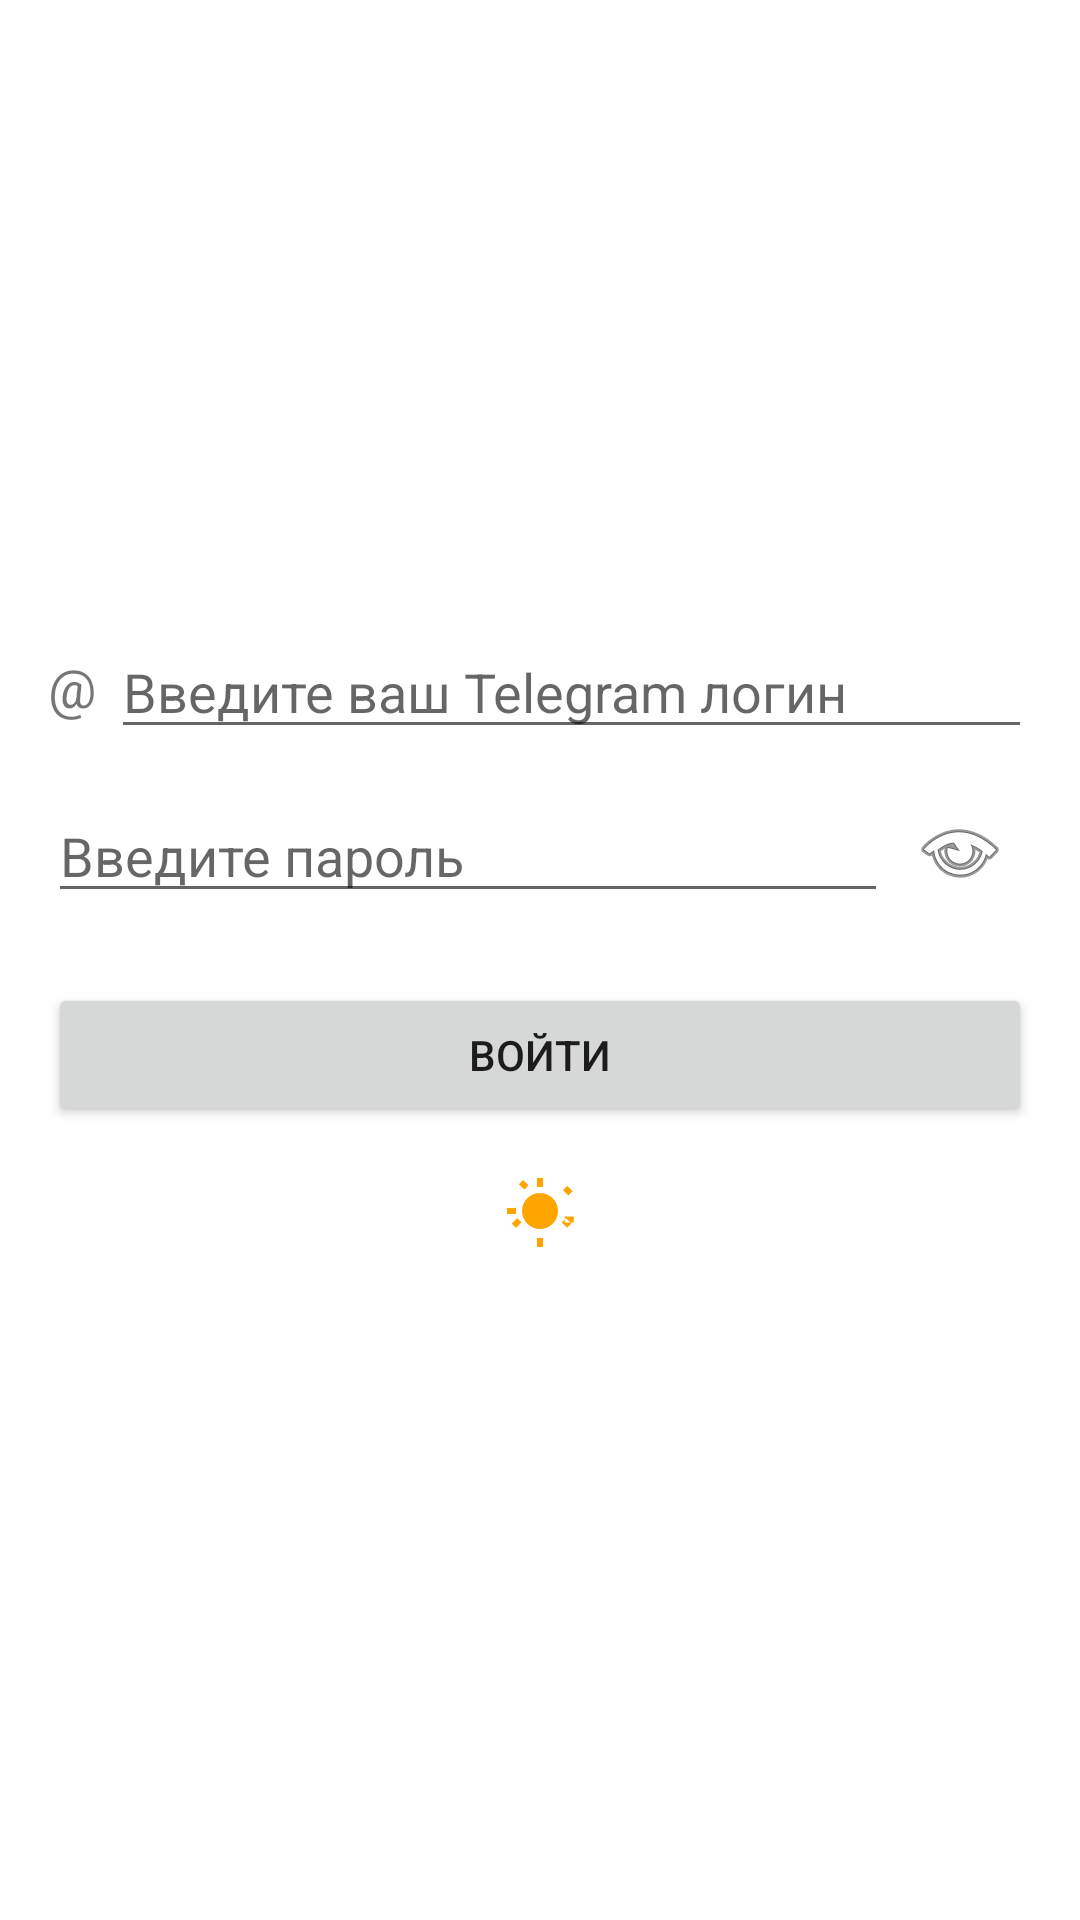

Locate icon controls on the screen. Image size 1080*1920, boxes as [x1,y1,x2,y2].
sun: [507,1178,574,1247]
view: [921,829,999,878]
